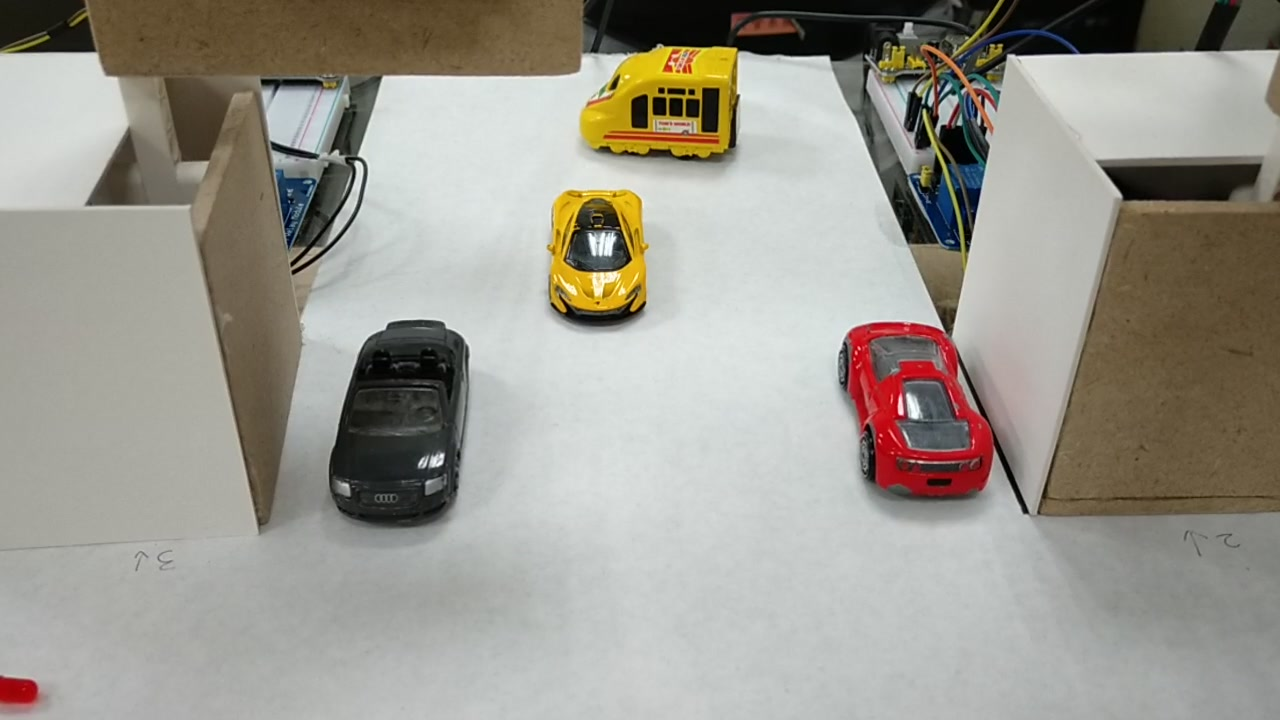car: (330, 326, 472, 522), (846, 319, 993, 492), (550, 184, 641, 323)
